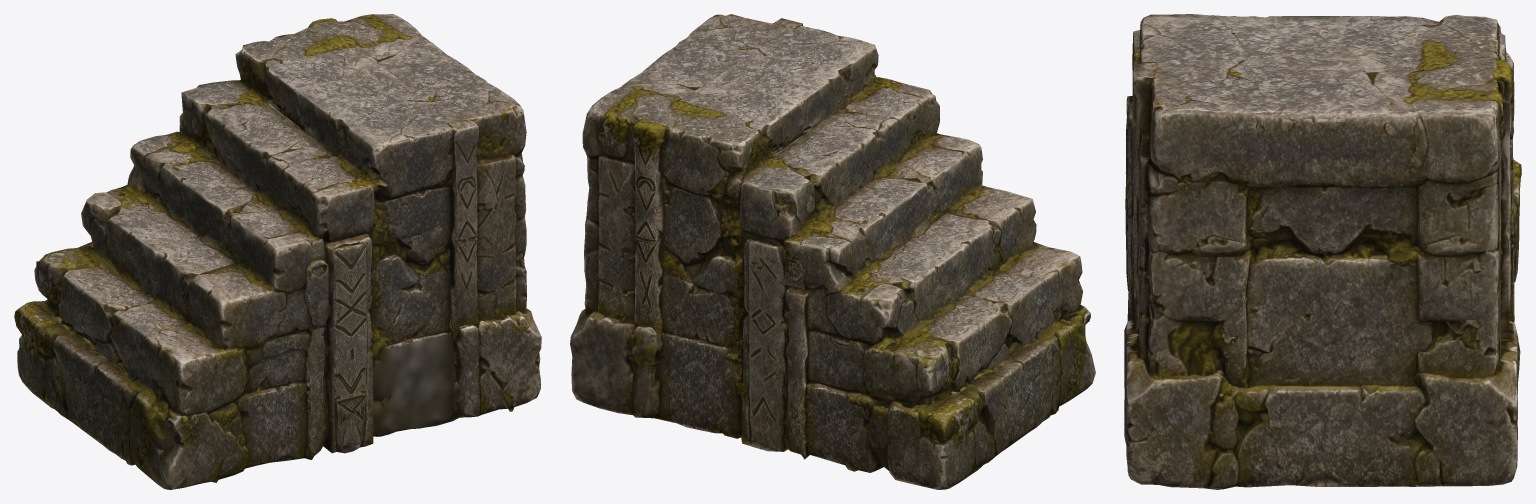
The model's file is Stairs.fbx.
The picture shows the model from 3 angles, left to right: view 1: azimuth 30°, elevation 25°; view 2: azimuth 150°, elevation 25°; view 3: azimuth 270°, elevation 25°; orthographic projection. The views are drawn at different scales.
Visible parts, largest first — view 1: texture_mapping; view 2: texture_mapping; view 3: texture_mapping.
Part boxes in pixels (x1=…): texture_mapping: x1=14, y1=14, x2=541, y2=489; texture_mapping: x1=570, y1=14, x2=1095, y2=489; texture_mapping: x1=1124, y1=14, x2=1521, y2=489.
Size of the model in its own units: 0.9957 by 0.7016 by 0.7447.
1 material, 1 textured.
